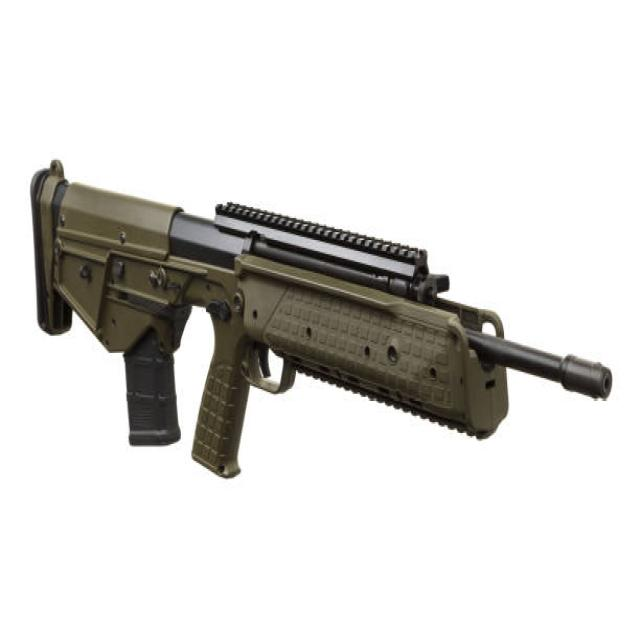rifle: (23, 151, 622, 508)
